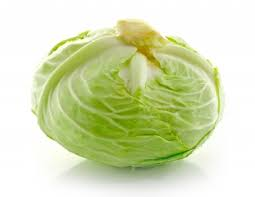cabbage: (29, 15, 227, 167)
